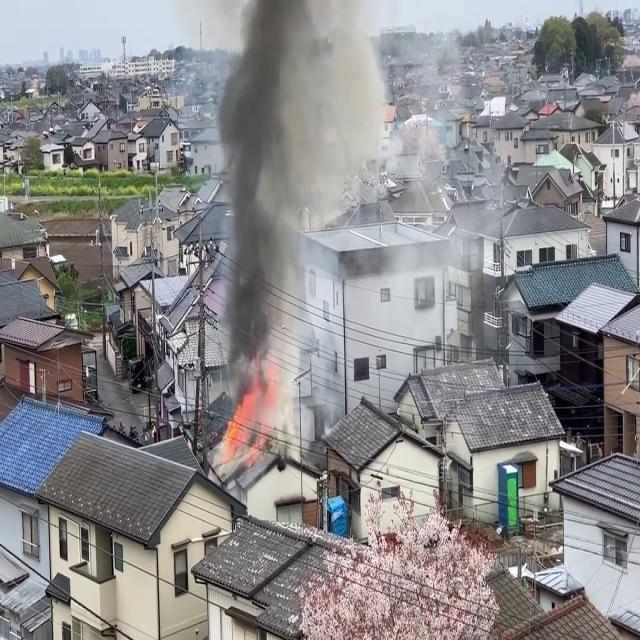Fire: (217, 388, 267, 464)
Smoke: (211, 0, 343, 430)
